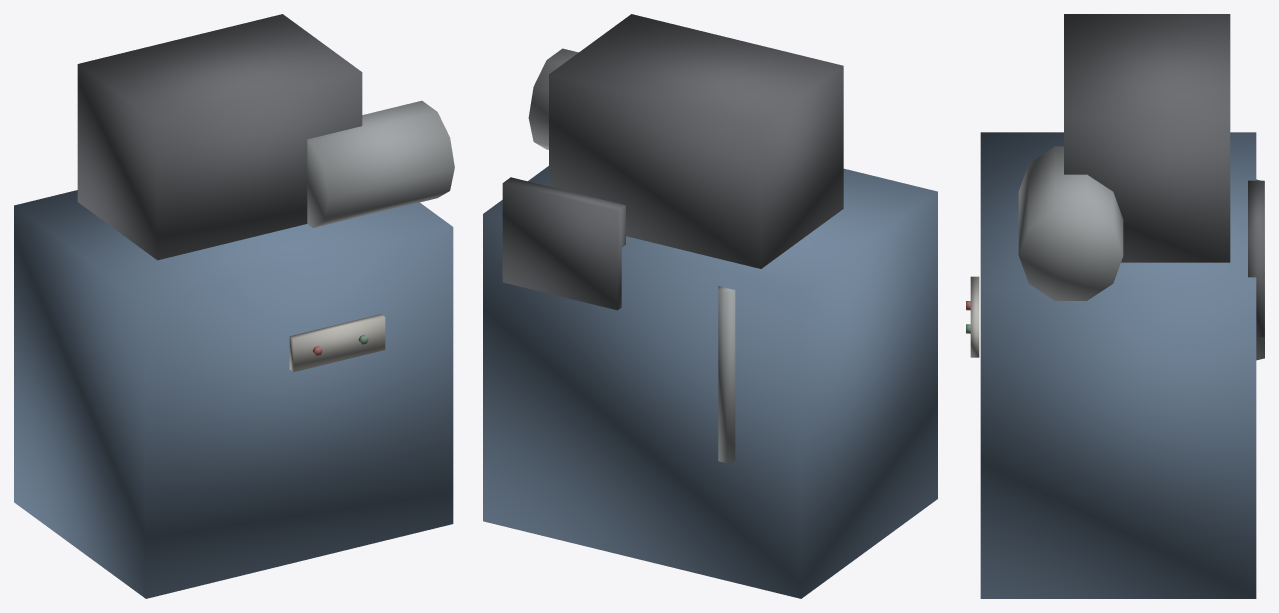
The model's file is rolling_tool_chest__service.glb.
3 views of the same model, side by side, from view 1: azimuth 30°, elevation 25°; view 2: azimuth 150°, elevation 25°; view 3: azimuth 270°, elevation 25° (orthographic). The views are drawn at different scales.
Visible parts, largest first — view 1: world; view 2: world; view 3: world.
Boxes of the visible parts, box(x1,y1,x2,y2) form: world: box(14, 14, 454, 598); world: box(483, 14, 937, 598); world: box(966, 14, 1264, 598).
Size of the model in its own units: 0.83 by 1.05 by 0.629.
